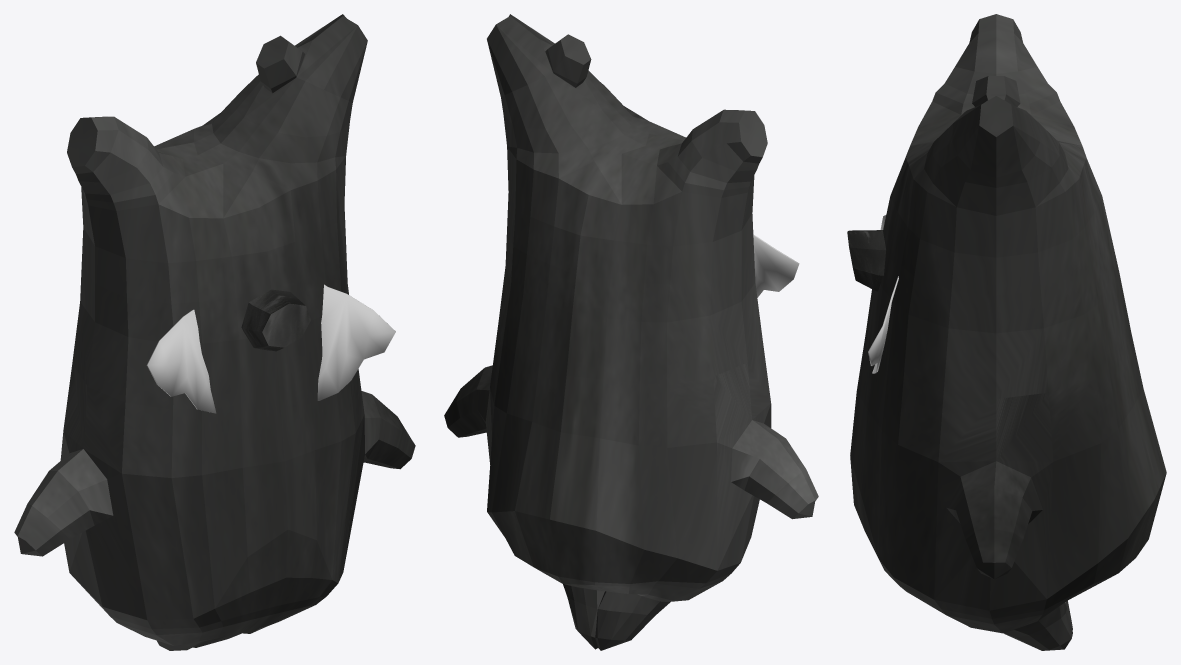
Rendered from frame_0007.obj.
3 views of the same model, side by side, from view 1: azimuth 30°, elevation 25°; view 2: azimuth 150°, elevation 25°; view 3: azimuth 270°, elevation 25° (orthographic). The views are drawn at different scales.
Visible parts, largest first — view 1: korok, leaf, nose; view 2: korok, leaf; view 3: korok, nose, leaf.
Boxes of the visible parts, x1,y1,x2,y2 form: korok: (14, 14, 415, 650); leaf: (146, 284, 395, 413); nose: (241, 289, 310, 351); korok: (444, 14, 818, 650); leaf: (753, 234, 799, 297); korok: (850, 14, 1166, 650); nose: (847, 230, 885, 291); leaf: (868, 215, 898, 373).
Size of the model in its own units: 1.66 by 2.5 by 1.18.
